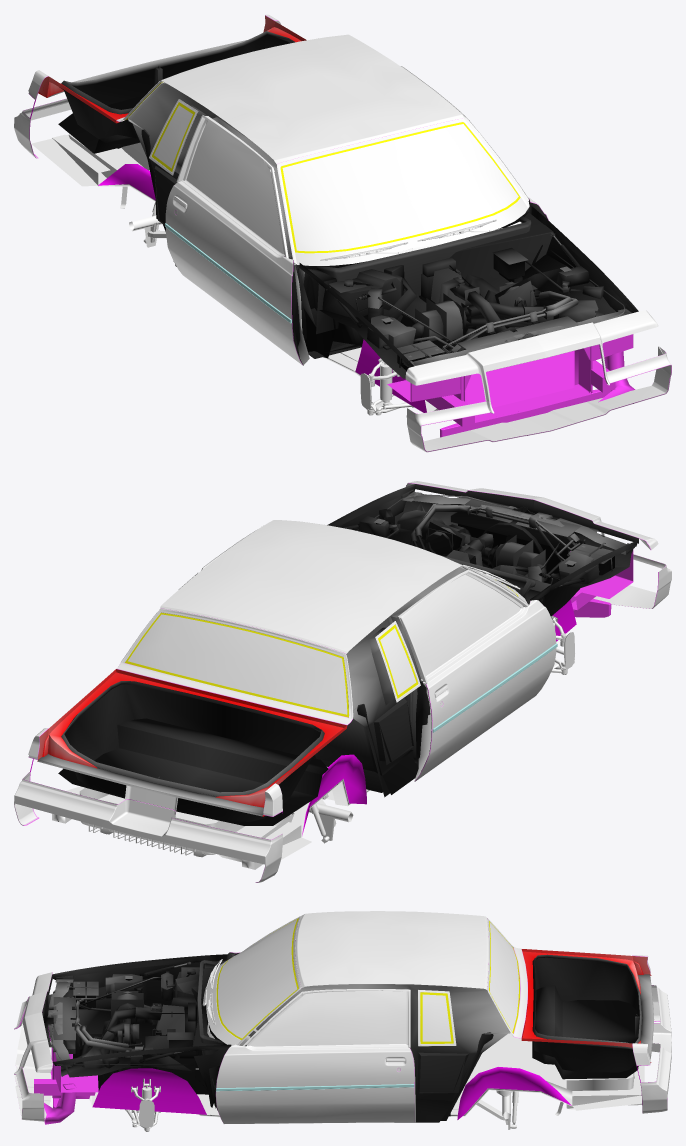
File: Car_Buick_GrandNational_1987.fbx
3 renders of one model, top to bottom at view 1: azimuth 30°, elevation 25°; view 2: azimuth 150°, elevation 25°; view 3: azimuth 270°, elevation 25°, orthographic. The views are drawn at different scales.
Parts seen in each view (by area): view 1: Chassis 7, Glass 6, DoorR 4, Interior 5, DoorR_Glass 4; view 2: Chassis 7, Glass 6, DoorR 4, Interior 5, DoorR_Glass 4; view 3: Chassis 7, DoorL 4, Glass 6, Interior 5, DoorL_Glass 4.
Part boxes in pixels (x1,y1,x2,y2): Chassis 7: (14,14,671,452); Glass 6: (125,81,520,253); DoorR 4: (165,180,302,365); Interior 5: (128,82,542,365); DoorR_Glass 4: (186,121,283,253); Chassis 7: (14,481,671,882); Glass 6: (125,565,518,717); DoorR 4: (415,600,557,781); Interior 5: (312,566,542,797); DoorR_Glass 4: (398,574,520,679); Chassis 7: (14,911,671,1131); DoorL 4: (215,1044,414,1123); Glass 6: (216,918,519,1043); Interior 5: (194,984,510,1124); DoorL_Glass 4: (250,991,406,1046).
Size of the model in its own units: 1.83 by 1.24 by 4.89.
